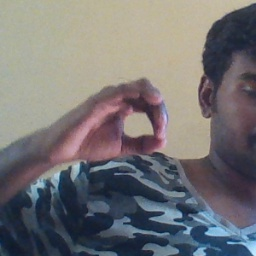O: (42, 76, 171, 164)
